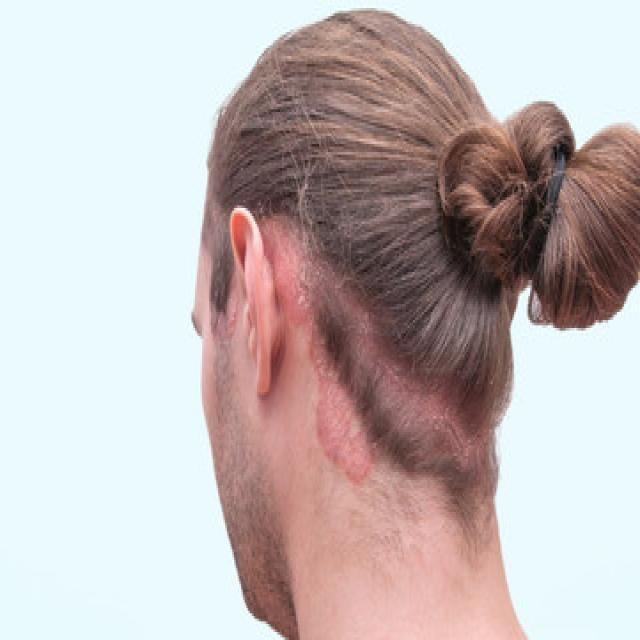Eczema: (218, 207, 476, 508)
